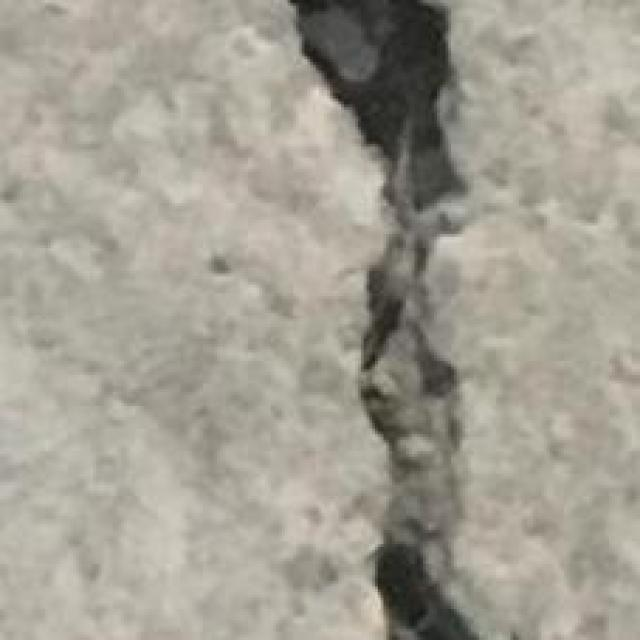vertical cracks: (290, 0, 493, 639)
